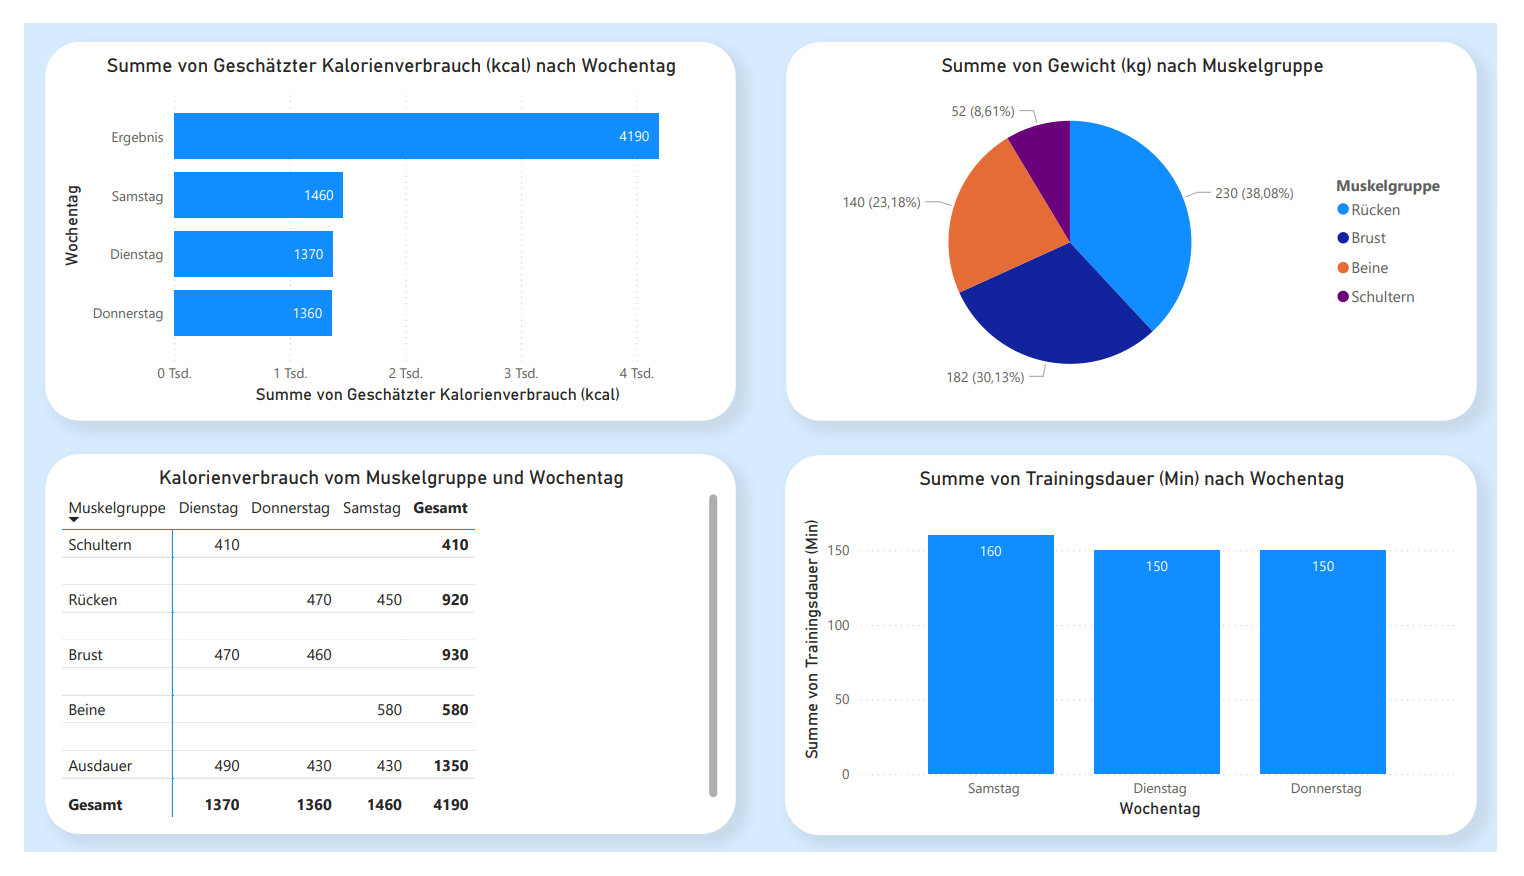

The dashboard page shown, as its layout file describes it:
{"tool":"powerbi","page":{"name":"Seite 1","canvas":[1280,720],"ordinal":0},"visuals":[{"type":"barChart","fields":{"Category":["Tabelle1.Wochentag"],"Y":["Sum(Tabelle1.Geschätzter Kalorienverbrauch (kcal))"]},"box":[0,0,640,359.9],"z":0},{"type":"pieChart","fields":{"Y":["Sum(Tabelle1.Gewicht (kg))"],"Category":["Tabelle1.Muskelgruppe"]},"box":[640,0,640,359.9],"z":1000},{"type":"pivotTable","title":"Kalorienverbrauch vom Muskelgruppe und Wochentag","fields":{"Rows":["Tabelle1.Muskelgruppe"],"Columns":["Tabelle1.Wochentag"],"Values":["Sum(Tabelle1.Geschätzter Kalorienverbrauch (kcal))"]},"box":[0,359.9,640,359.9],"z":2000},{"type":"columnChart","fields":{"Y":["Sum(Tabelle1.Trainingsdauer (Min))"],"Category":["Tabelle1.Wochentag"]},"box":[640,359.9,640,359.9],"z":3000}]}

Visuals, with their boxes in screenshot pixels (x1, y1, x2, y2), scaled from the page's 1280x720 canvas onto the 1524x876 screenshot:
barChart - Tabelle1.Wochentag x Sum(Tabelle1.Geschätzter Kalorienverbrauch (kcal)): (left=0, top=0, right=762, bottom=438)
pieChart - Sum(Tabelle1.Gewicht (kg)) x Tabelle1.Muskelgruppe: (left=762, top=0, right=1523, bottom=438)
"Kalorienverbrauch vom Muskelgruppe und Wochentag" pivotTable: (left=0, top=438, right=762, bottom=875)
columnChart - Sum(Tabelle1.Trainingsdauer (Min)) x Tabelle1.Wochentag: (left=762, top=438, right=1523, bottom=875)
